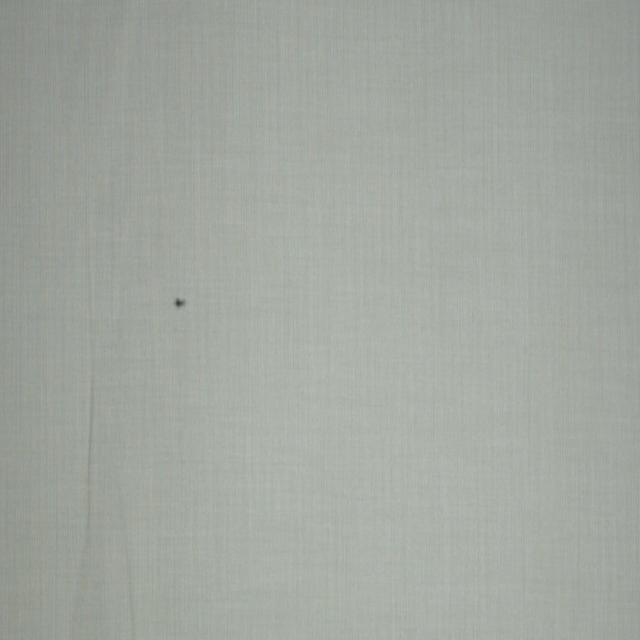dirty: (174, 297, 189, 310)
